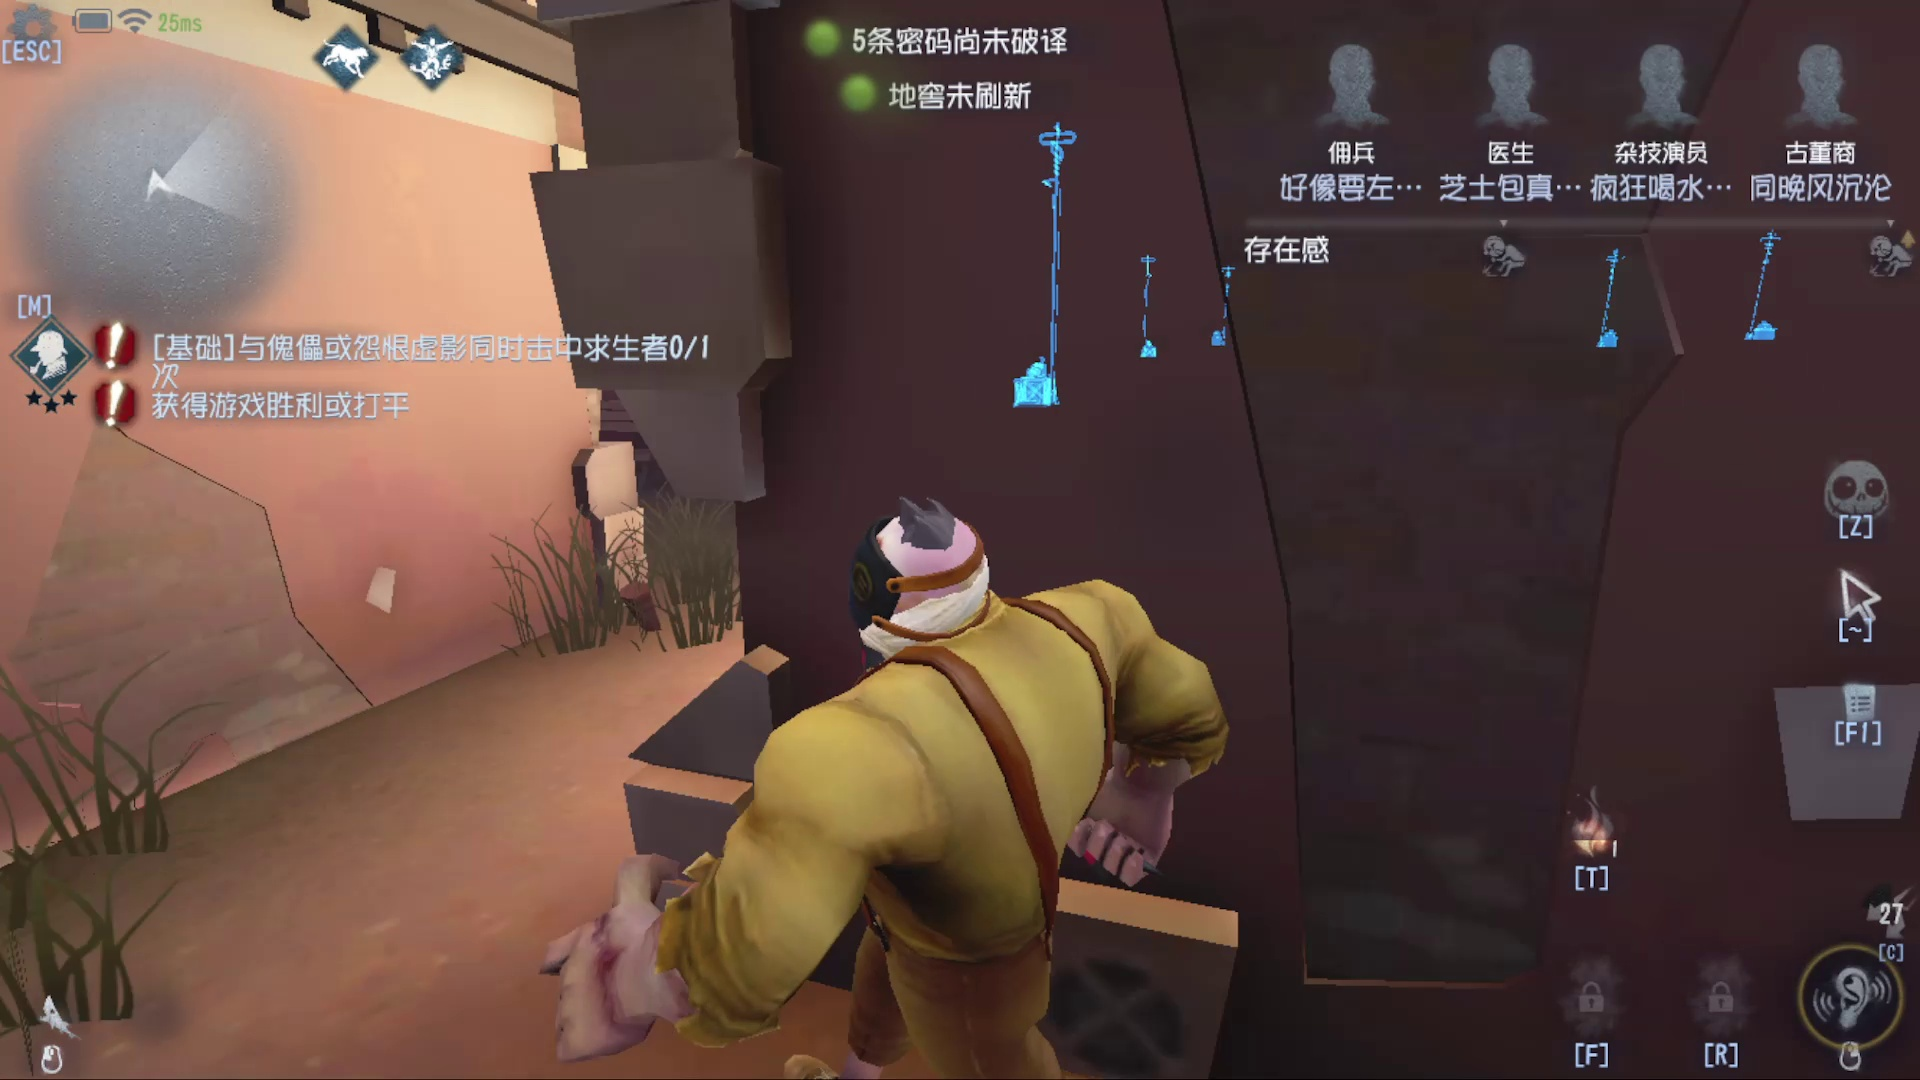密码机: (982, 113, 1098, 425), (1729, 223, 1797, 371), (1116, 232, 1182, 368), (1592, 243, 1640, 359), (1215, 251, 1255, 355)
